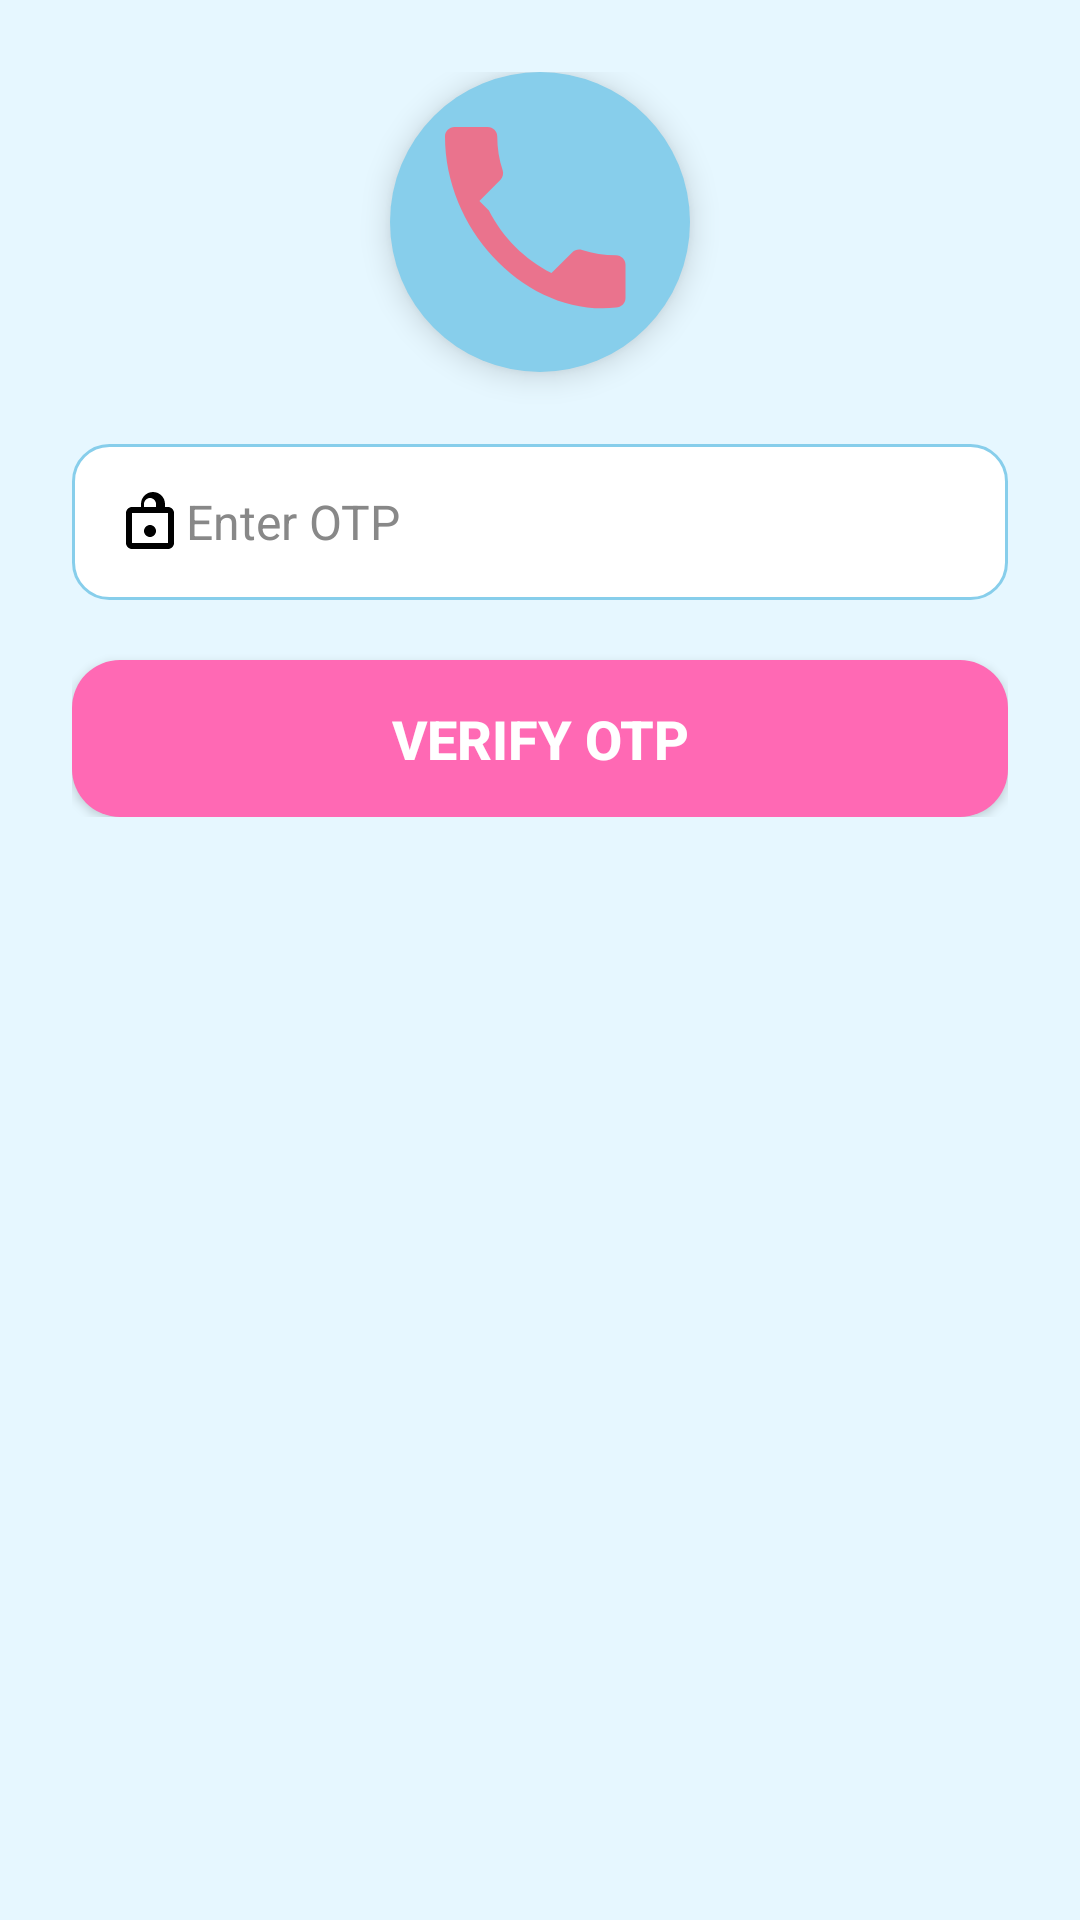

Screen size 1080px×1920px. Icon name, then its box in pixels as bbox(x1, y1, x2, y2):
phone: bbox(390, 72, 690, 372)
